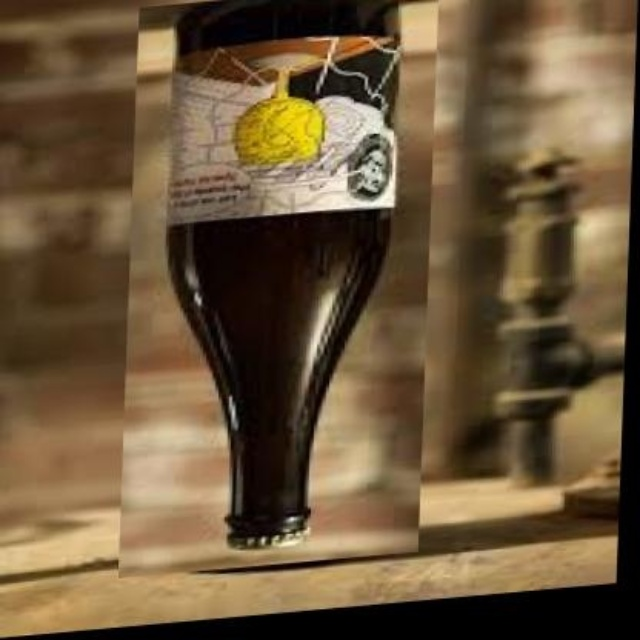trash: (169, 0, 397, 546)
